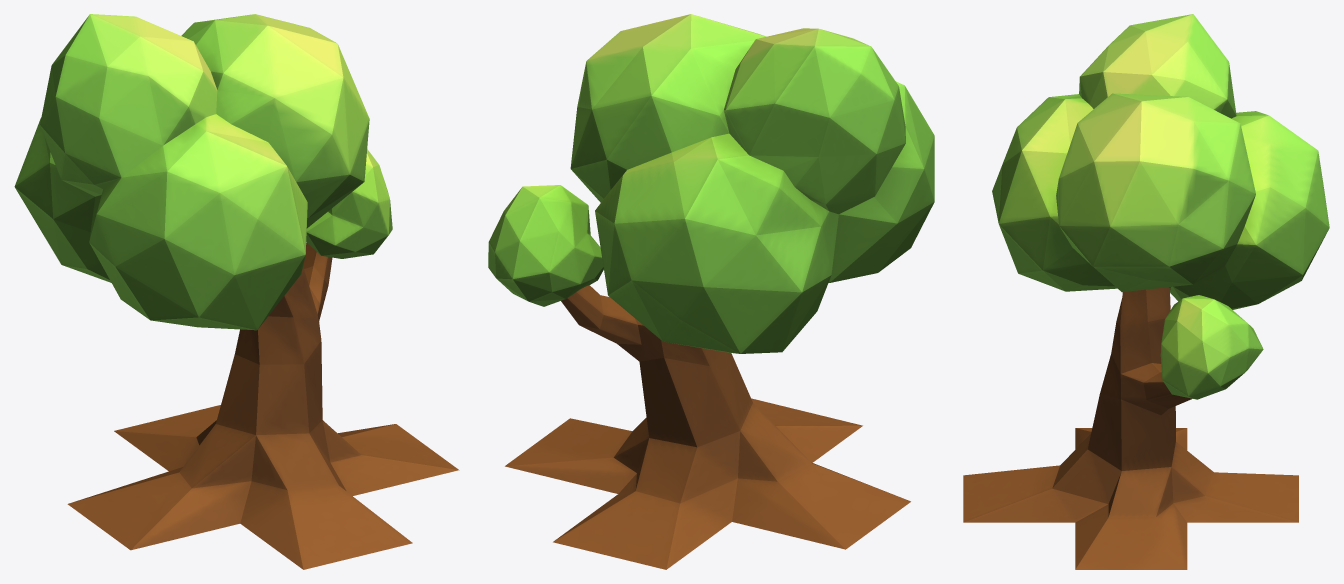
Rendered from ArbrePrairie_A.FBX.
The picture shows the model from 3 angles, left to right: view 1: azimuth 30°, elevation 25°; view 2: azimuth 150°, elevation 25°; view 3: azimuth 270°, elevation 25°; orthographic projection. The views are drawn at different scales.
Parts seen in each view (by area): view 1: ArbrePrairie_A; view 2: ArbrePrairie_A; view 3: ArbrePrairie_A.
Part boxes in pixels (box(x1,y1,x2,y2)): ArbrePrairie_A: box(14, 14, 459, 569); ArbrePrairie_A: box(488, 14, 934, 569); ArbrePrairie_A: box(963, 14, 1329, 569).
Bounding box in the file's own units: 3.3 × 4.19 × 3.27.
